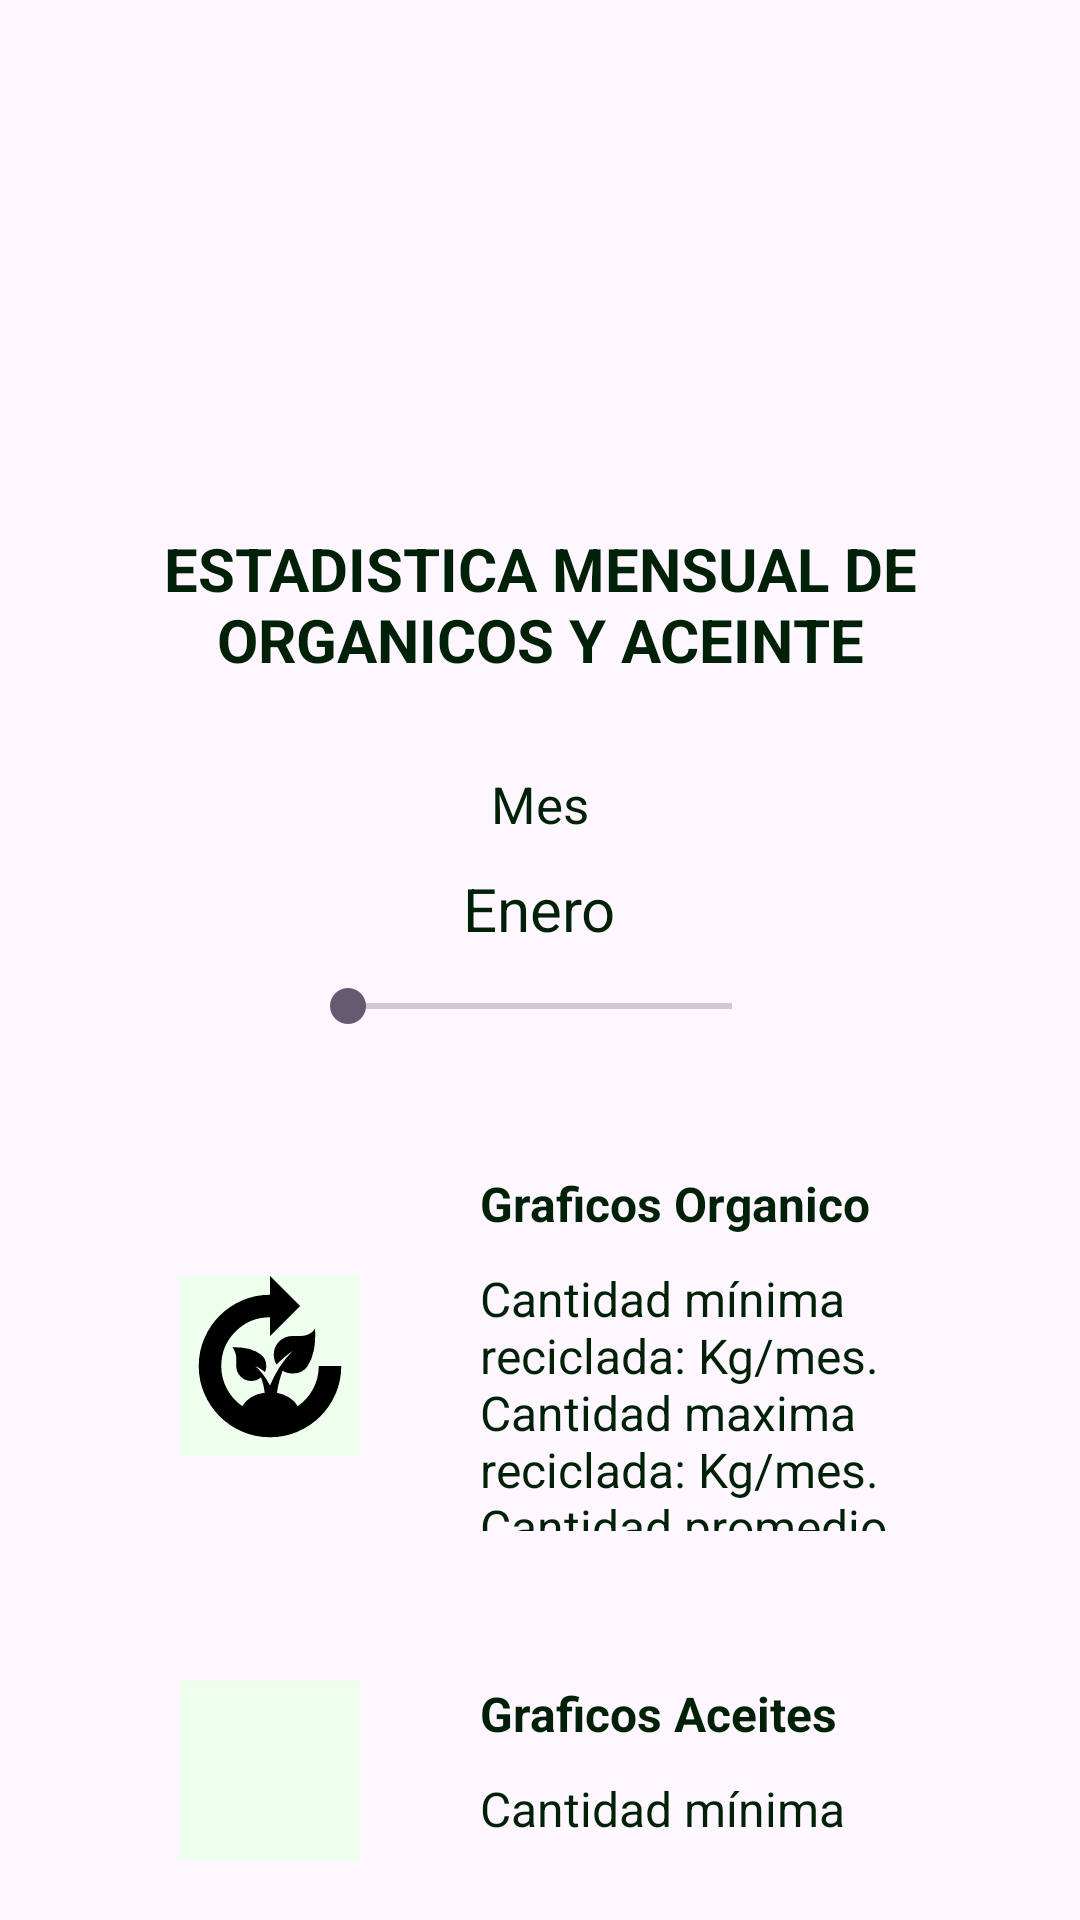

Icon bounding boxes for this 1080 x 1920 phone screenshot, format (x1, y1, x2, y2):
compost: (180, 1276, 360, 1456)
